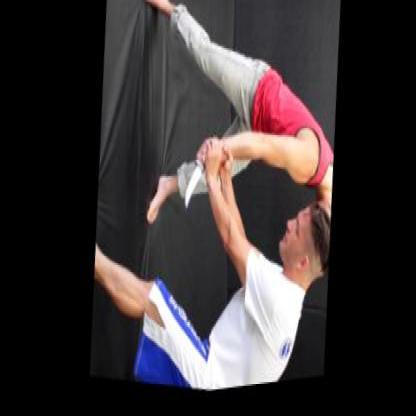knife: (178, 134, 211, 223)
